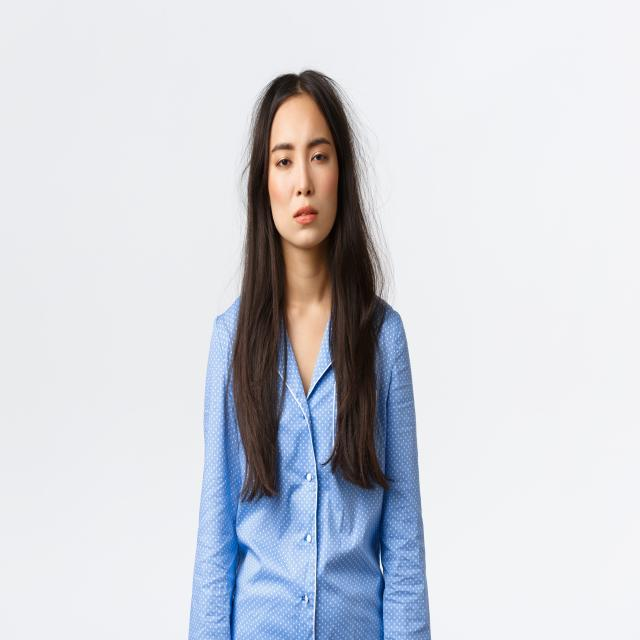sem_oculos: (262, 138, 352, 176)
